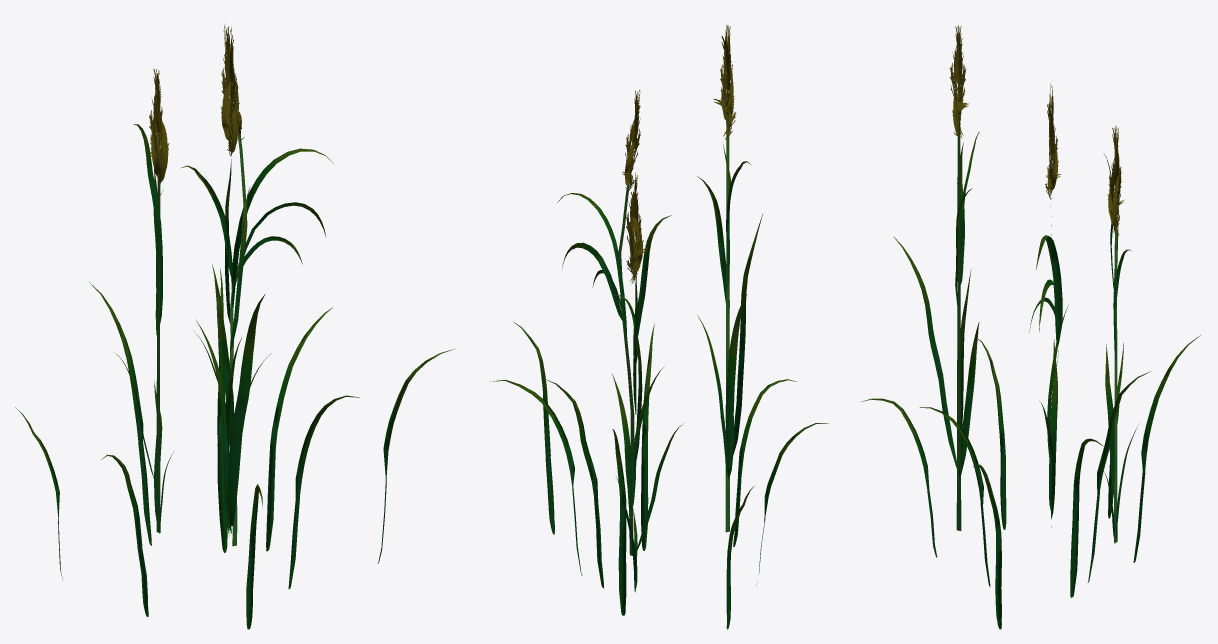
3 renders of one model, left to right at view 1: azimuth 30°, elevation 25°; view 2: azimuth 150°, elevation 25°; view 3: azimuth 270°, elevation 25°, orthographic. The views are drawn at different scales.
Parts seen in each view (by area): view 1: SM_BM_GrassLongSeeded_02_LOD0; view 2: SM_BM_GrassLongSeeded_02_LOD0; view 3: SM_BM_GrassLongSeeded_02_LOD0.
Part boxes in pixels (x1,y1,x2,y2): SM_BM_GrassLongSeeded_02_LOD0: [15, 25, 455, 629]; SM_BM_GrassLongSeeded_02_LOD0: [490, 24, 828, 629]; SM_BM_GrassLongSeeded_02_LOD0: [861, 25, 1200, 629].
Bounding box in the file's own units: 0.8527 × 1.38 × 0.7932.
1 material, 1 textured.
